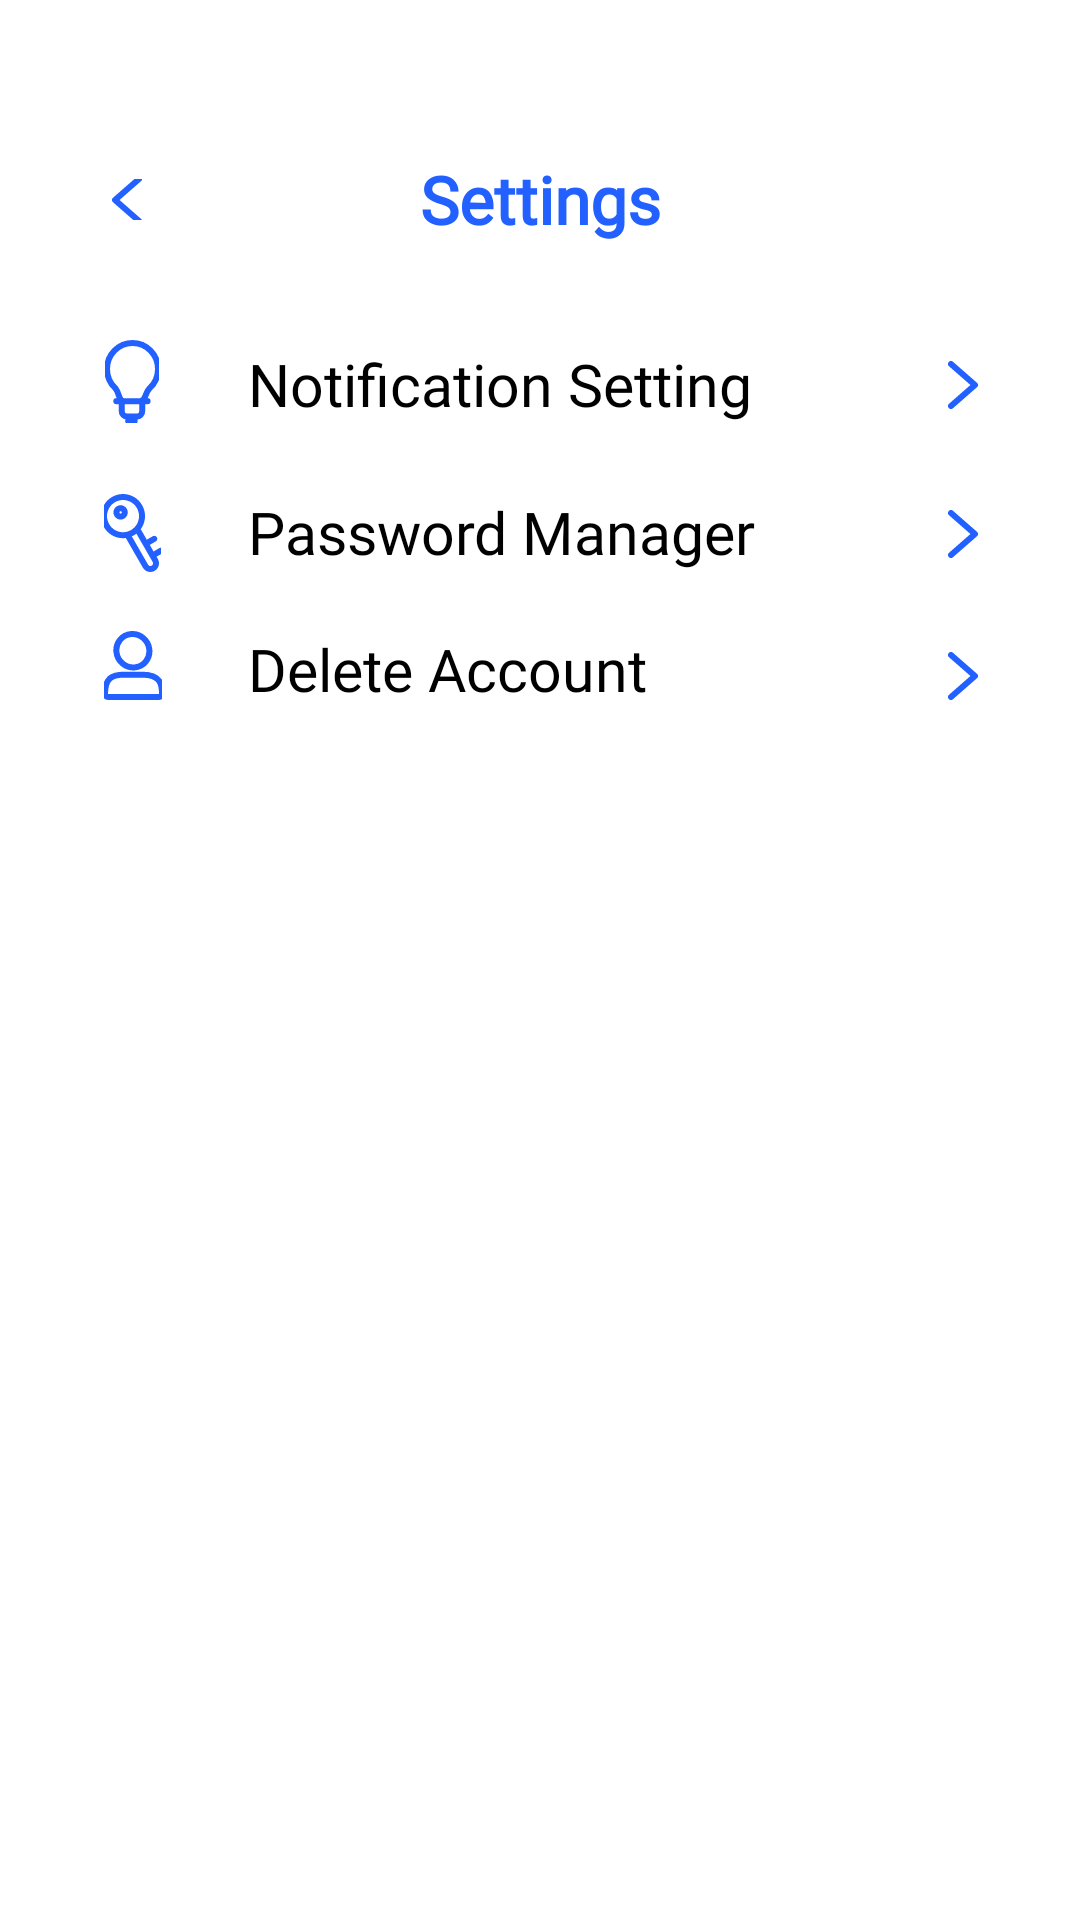

Point at icon controls on the screen. Image size 1080*1920, points as [x,y].
back: [127,199]
bulb: [132,381]
forward: [963,385], [963,534], [963,676]
key: [132,533]
profile: [133,665]
